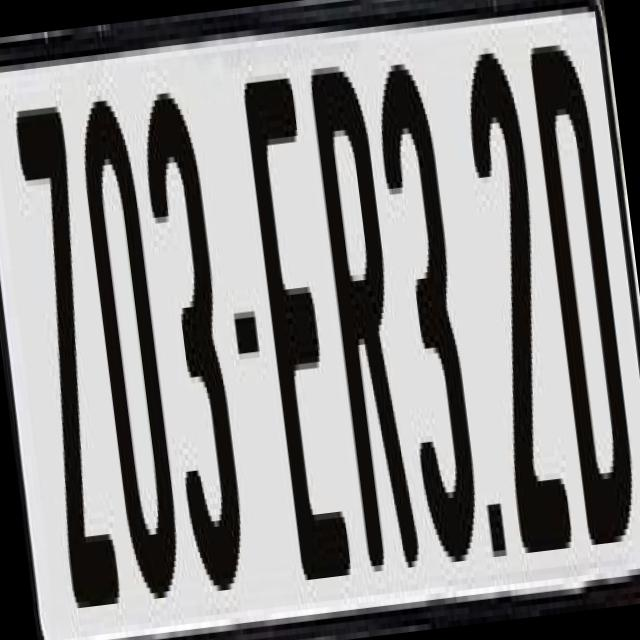0: (69, 81, 180, 601)
2: (459, 44, 579, 559)
3: (368, 55, 491, 593), (132, 79, 246, 599)
D: (522, 25, 636, 539)
E: (240, 66, 352, 574)
R: (307, 56, 428, 572)
Z: (12, 93, 127, 596)
